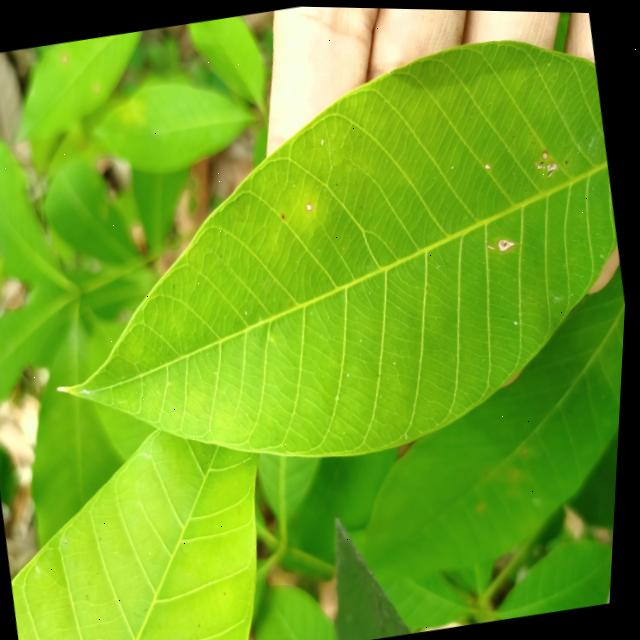Colletotrichum: (307, 200, 315, 209), (543, 147, 550, 156)
